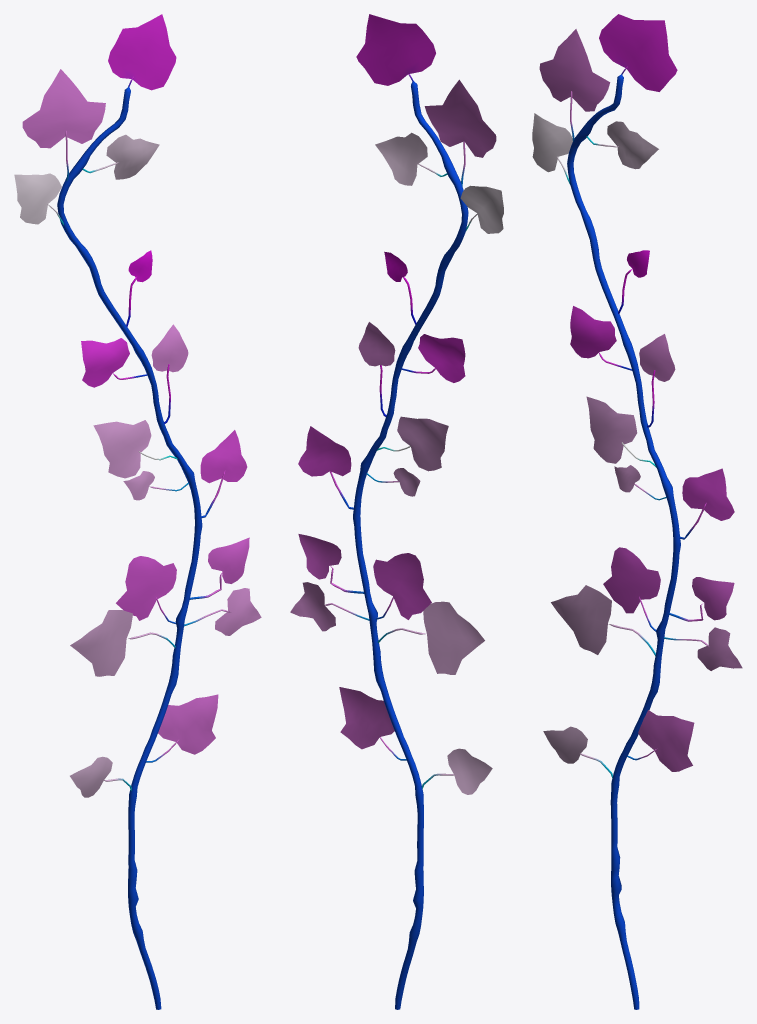
File: English_Ivy_xfcnebhqx_High_xfcnebhqx_VarB_LOD0.fbx
The picture shows the model from 3 angles, left to right: view 1: azimuth 30°, elevation 25°; view 2: azimuth 150°, elevation 25°; view 3: azimuth 330°, elevation 25°; orthographic projection.
Parts seen in each view (by area): view 1: _himf_VarB_LOD0; view 2: _himf_VarB_LOD0; view 3: _himf_VarB_LOD0.
Part boxes in pixels (bbox=[...]): _himf_VarB_LOD0: bbox=[14, 14, 261, 1009]; _himf_VarB_LOD0: bbox=[290, 14, 503, 1009]; _himf_VarB_LOD0: bbox=[532, 14, 742, 1009].
Bounding box in the file's own units: 17.82 × 73.47 × 3.29.
